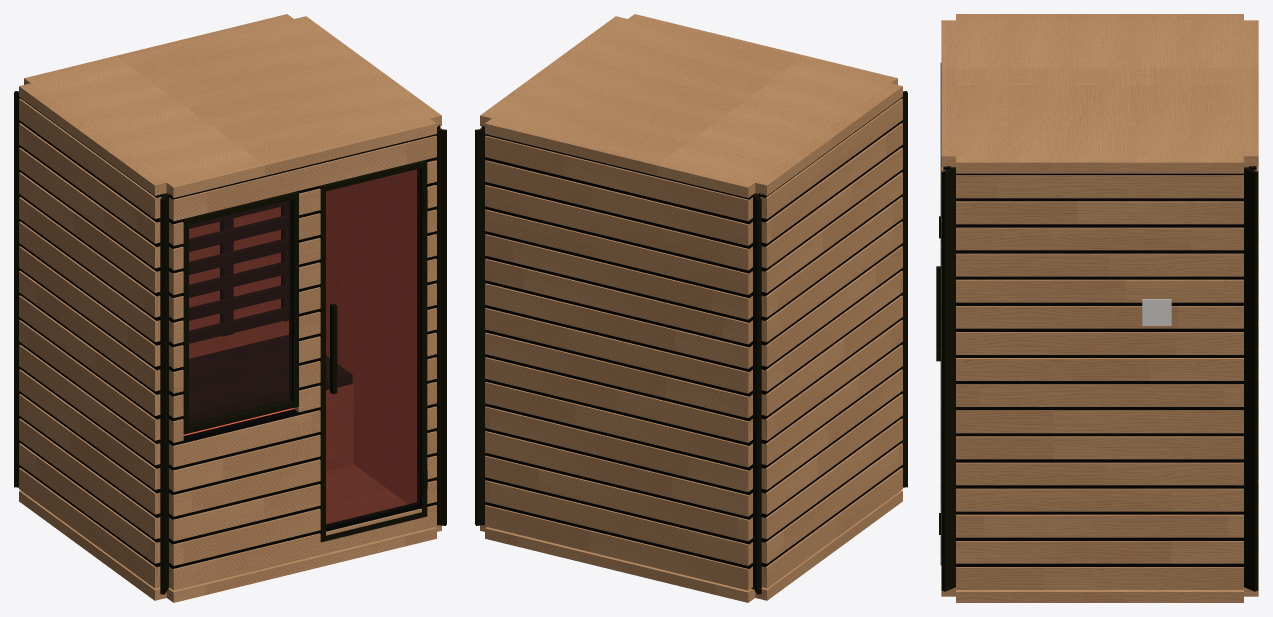
File: nyssa-2.glb
3 renders of one model, left to right at view 1: azimuth 30°, elevation 25°; view 2: azimuth 150°, elevation 25°; view 3: azimuth 270°, elevation 25°, orthographic. The views are drawn at different scales.
Parts seen in each view (by area): view 1: cedar, tint, cedar_in, black, cedar_dark, reveal; view 2: cedar, reveal, black; view 3: cedar, reveal, black, white.
Boxes of the visible parts, bbox=[...] form: cedar: bbox=[19, 14, 441, 602]; tint: bbox=[189, 169, 419, 526]; cedar_in: bbox=[183, 169, 416, 523]; black: bbox=[14, 91, 446, 594]; cedar_dark: bbox=[189, 201, 352, 422]; reveal: bbox=[20, 98, 440, 568]; cedar: bbox=[480, 14, 902, 602]; reveal: bbox=[481, 98, 901, 588]; black: bbox=[475, 91, 907, 594]; cedar: bbox=[941, 14, 1258, 602]; reveal: bbox=[943, 166, 1256, 566]; black: bbox=[936, 63, 1258, 591]; white: bbox=[1142, 299, 1171, 325].
Bounding box in the file's own units: 1.44 × 1.99 × 1.32.
Materials: 8 (3 with a texture image).
